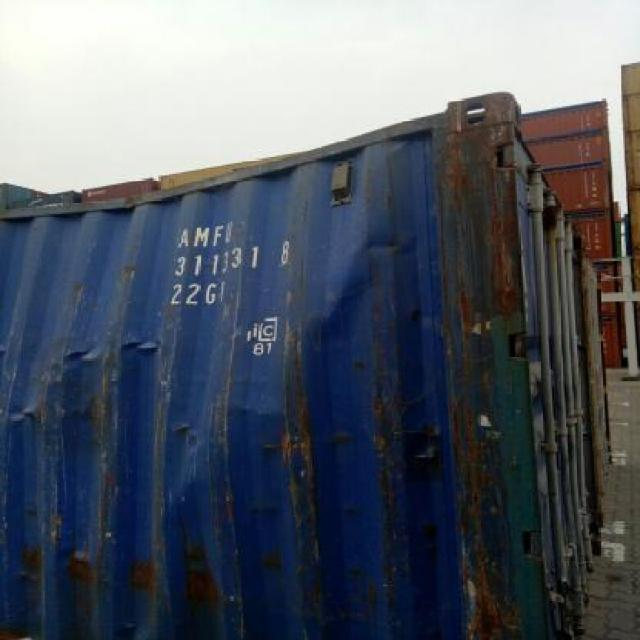Deframe: (1, 119, 418, 219)
Dent: (26, 264, 382, 557)
Rust: (443, 92, 514, 206), (489, 211, 520, 317)
